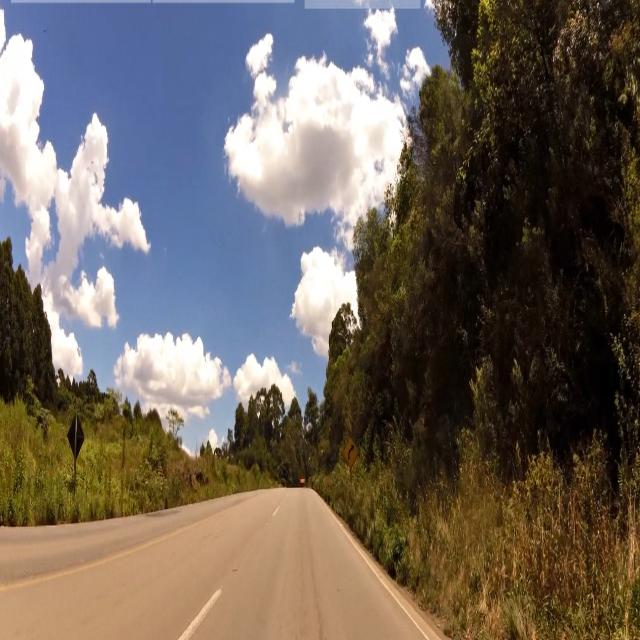A-2b: (342, 434, 360, 469)
